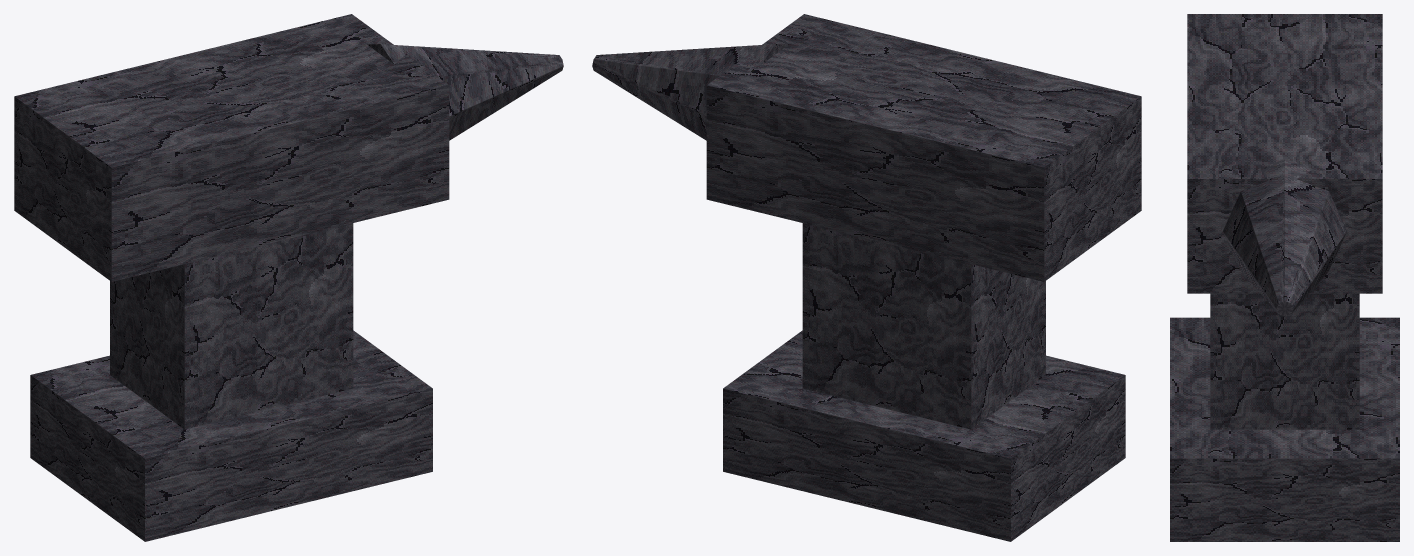
The model's file is bigorna_de_basalto.glb.
3 views of the same model, side by side, from view 1: azimuth 30°, elevation 25°; view 2: azimuth 150°, elevation 25°; view 3: azimuth 270°, elevation 25° (orthographic).
Visible parts, largest first — view 1: bigorna_de_basalto; view 2: bigorna_de_basalto; view 3: bigorna_de_basalto.
Boxes of the visible parts, x1,y1,x2,y2 form: bigorna_de_basalto: (14,14,563,541); bigorna_de_basalto: (592,14,1141,541); bigorna_de_basalto: (1170,14,1399,541).
Size of the model in its own units: 1 by 0.74 by 0.4.
Materials: 1 (1 with a texture image).
